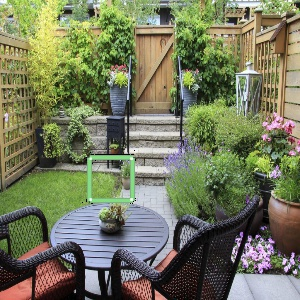square: (85, 152, 137, 204)
